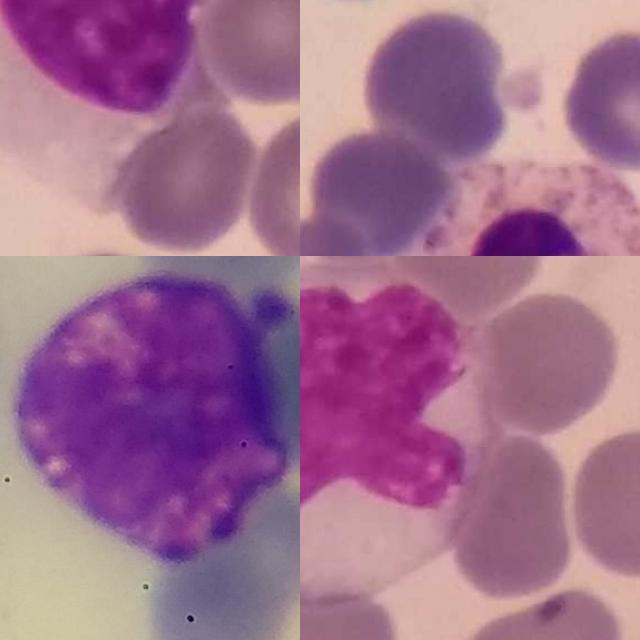Basophil: (13, 274, 298, 566)
Lymphocyte: (0, 0, 223, 199)
Monocyte: (300, 265, 492, 598)
Neutrophil: (406, 160, 640, 256)
